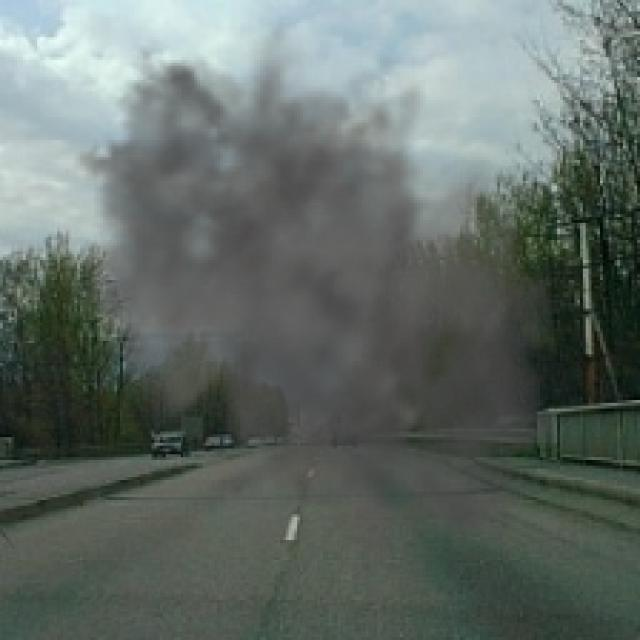Smoke: (40, 17, 603, 577)
